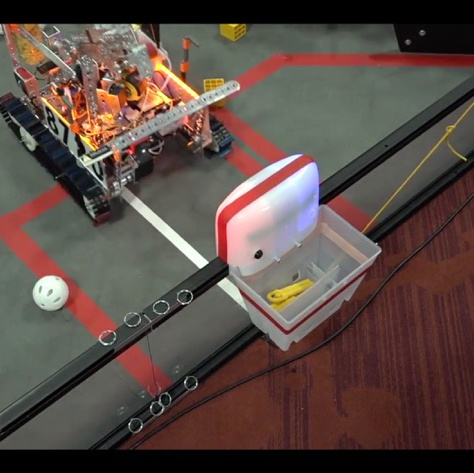robot: (0, 23, 236, 225)
